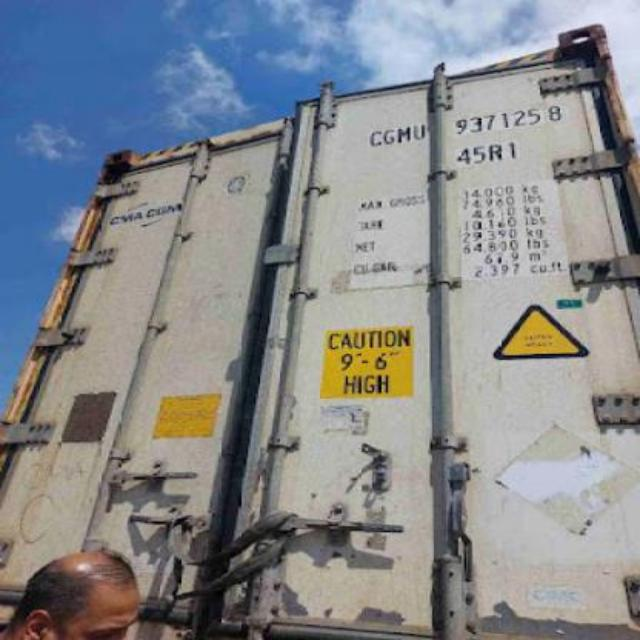1: (498, 105, 512, 131)
2: (512, 104, 528, 128)
3: (468, 111, 482, 132)
5: (524, 104, 540, 126)
7: (484, 112, 498, 134)
8: (548, 100, 566, 124)
9: (452, 112, 468, 138)
C: (366, 120, 384, 150)
G: (384, 120, 394, 144)
M: (396, 120, 412, 144)
U: (414, 120, 426, 144)
